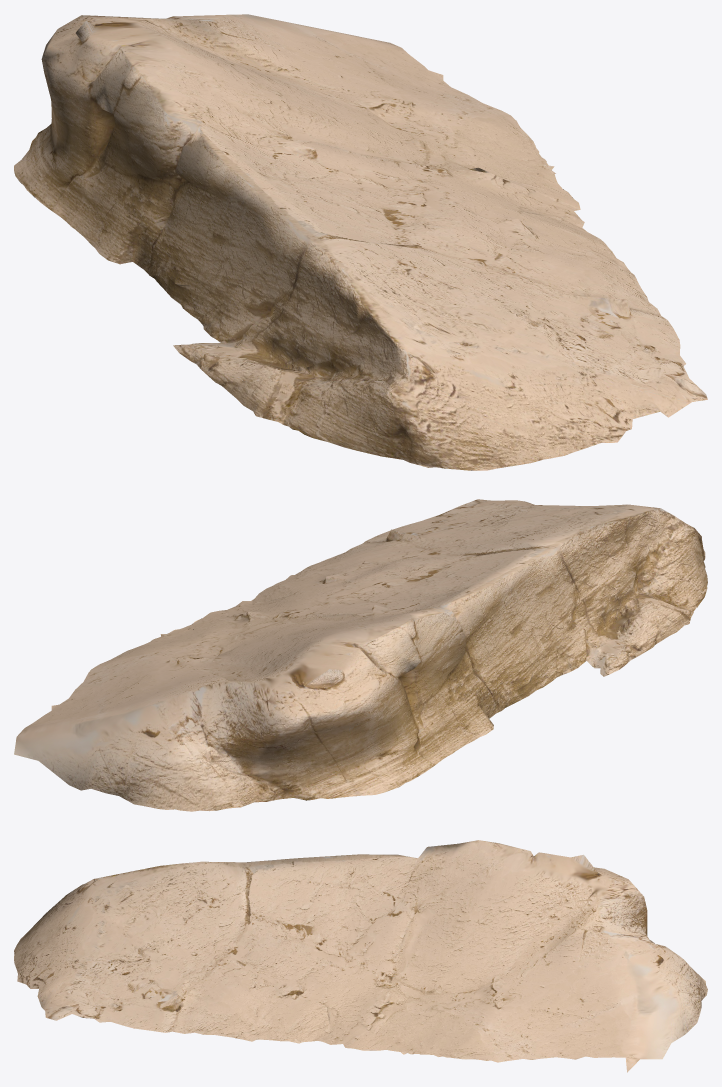
The model's file is rock_mont_mercou.glb.
3 renders of one model, top to bottom at view 1: azimuth 30°, elevation 25°; view 2: azimuth 150°, elevation 25°; view 3: azimuth 270°, elevation 25°, orthographic. The views are drawn at different scales.
Visible parts, largest first — view 1: mercou; view 2: mercou; view 3: mercou.
Part boxes in pixels (box(x1,y1,x2,y2)): mercou: box(14, 14, 707, 470); mercou: box(14, 499, 707, 811); mercou: box(14, 840, 707, 1072).
Size of what is drawn, in the model's own units: 11.02 by 3.43 by 19.87.
1 material, 1 textured.
